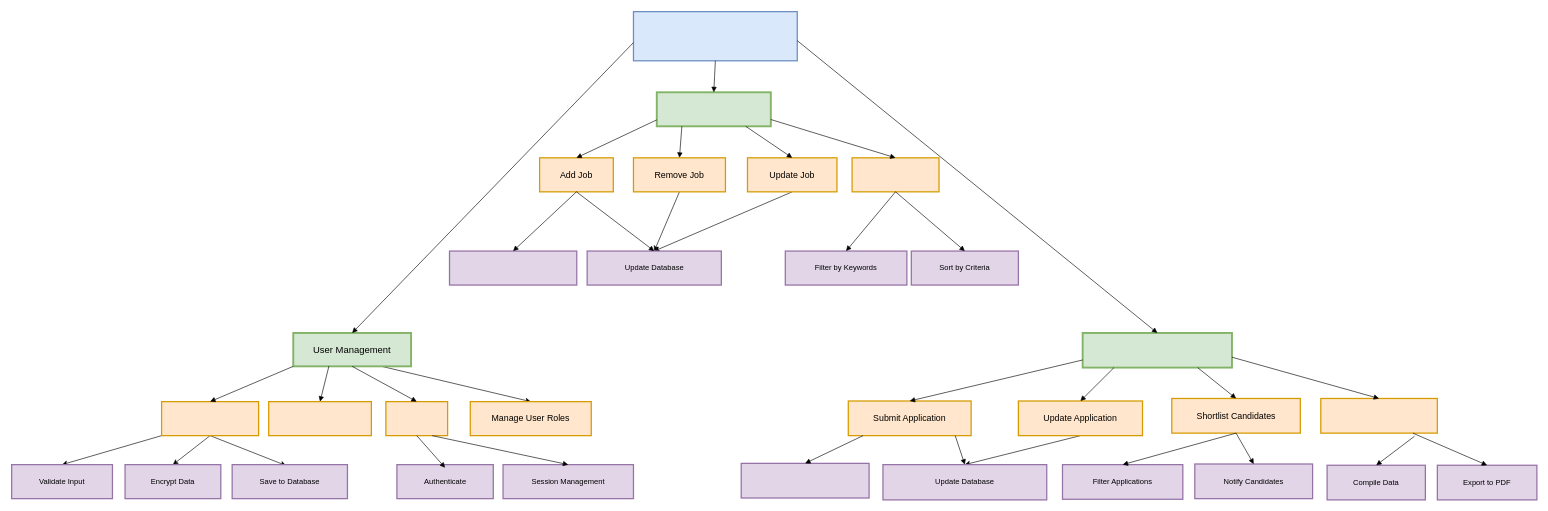
Image size: 1548x511. Some labels were removed from this diagram. Each missing label, with the centre of its shape:
Application Management: (1157,350)
Generate Reports: (1379,415)
Job Management: (713,109)
Job Portal Management System (Root): (715,36)
Login: (416,418)
Register User: (210,418)
Search Job: (895,174)
Update Profile: (320,418)
Validate Application: (804,480)
Validate Job Details: (513,267)
